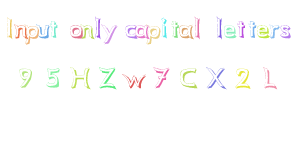2: (234, 67, 252, 90)
5: (44, 65, 61, 88)
7: (152, 64, 169, 89)
9: (13, 64, 35, 91)
C: (178, 66, 198, 88)
H: (69, 66, 91, 89)
I: (3, 15, 18, 39)
L: (261, 67, 279, 89)
X: (204, 65, 228, 90)
Z: (98, 65, 117, 89)
a: (179, 24, 194, 39), (134, 24, 148, 39)
c: (123, 22, 137, 40)
e: (224, 23, 237, 39), (257, 24, 269, 39)
i: (159, 17, 170, 38)
l: (214, 14, 224, 39), (193, 15, 202, 39), (93, 16, 102, 39)
n: (81, 23, 94, 39), (14, 24, 27, 38)
o: (69, 23, 83, 40)
p: (146, 23, 160, 45), (25, 24, 40, 44)
r: (269, 23, 280, 39)
s: (279, 24, 293, 39)
t: (48, 18, 58, 39), (170, 20, 180, 39), (236, 19, 246, 38), (247, 19, 257, 38)
u: (36, 23, 50, 39)
w: (121, 72, 147, 89)
y: (101, 23, 117, 46)
